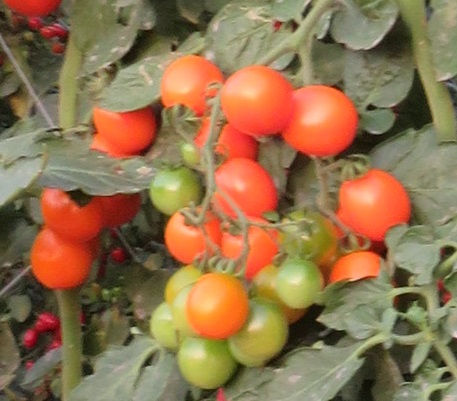green: (228, 296, 291, 365), (174, 335, 238, 391), (282, 208, 338, 261), (150, 167, 205, 216), (275, 254, 325, 307)
orange: (283, 78, 364, 156), (337, 168, 417, 240), (220, 69, 297, 135), (25, 228, 102, 289), (218, 213, 285, 279), (209, 158, 281, 216), (36, 182, 107, 240), (158, 51, 222, 114), (189, 271, 248, 338), (91, 101, 160, 152), (160, 204, 218, 258), (333, 251, 392, 285)
